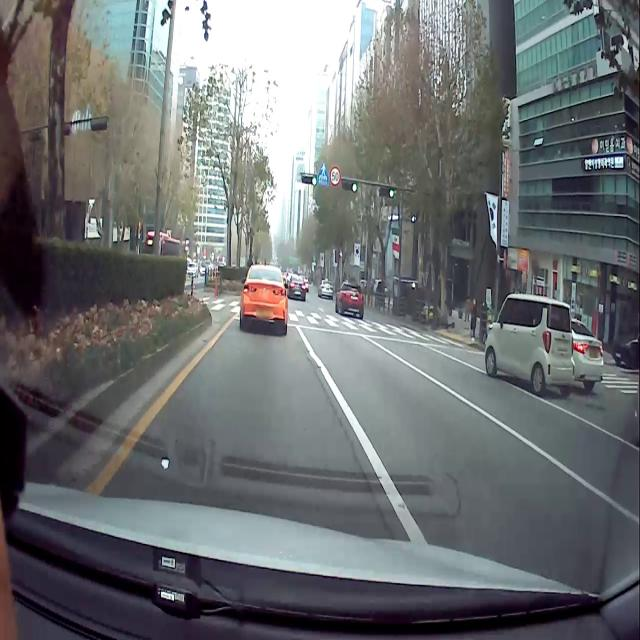Green Light: (352, 180, 357, 193), (312, 176, 318, 186), (390, 188, 394, 198)
